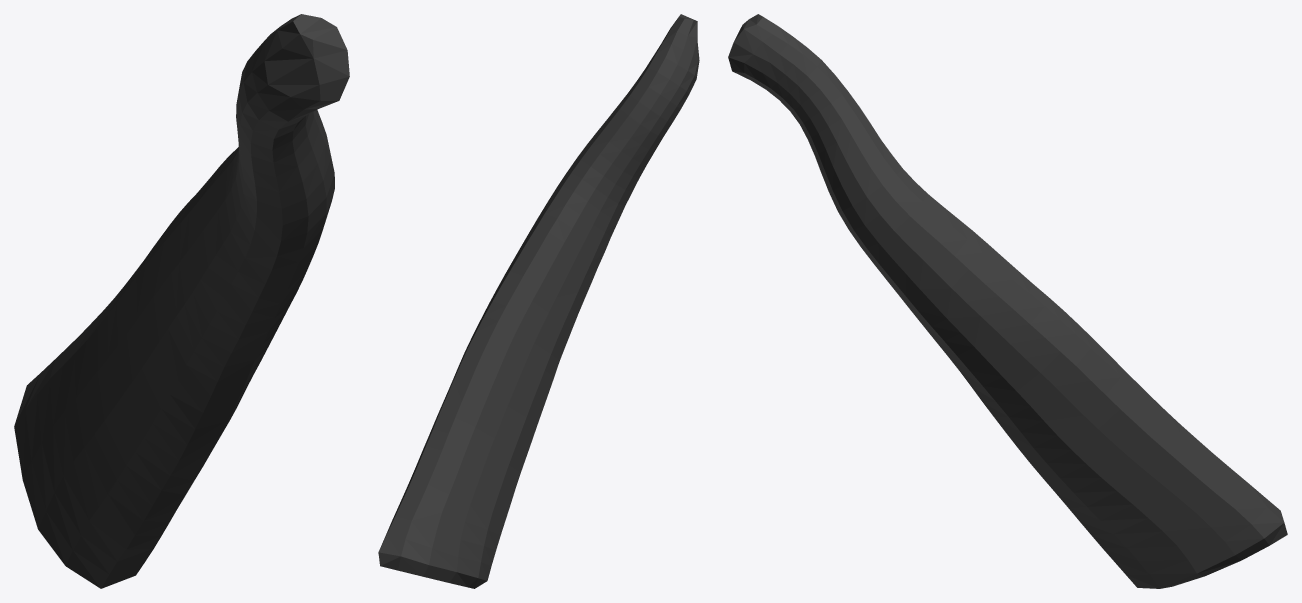
File: Cleidocephalicus_mast.glb
3 views of the same model, side by side, from view 1: azimuth 30°, elevation 25°; view 2: azimuth 150°, elevation 25°; view 3: azimuth 270°, elevation 25° (orthographic). The views are drawn at different scales.
Parts seen in each view (by area): view 1: Cleidocephalicus_mast; view 2: Cleidocephalicus_mast; view 3: Cleidocephalicus_mast.
Part boxes in pixels (left/top/right/bottom): Cleidocephalicus_mast: left=14, top=14, right=349, bottom=588; Cleidocephalicus_mast: left=378, top=14, right=699, bottom=588; Cleidocephalicus_mast: left=728, top=14, right=1287, bottom=588.
Size of the model in its own units: 0.2301 by 0.9143 by 0.8594.
1 material, 1 textured.
